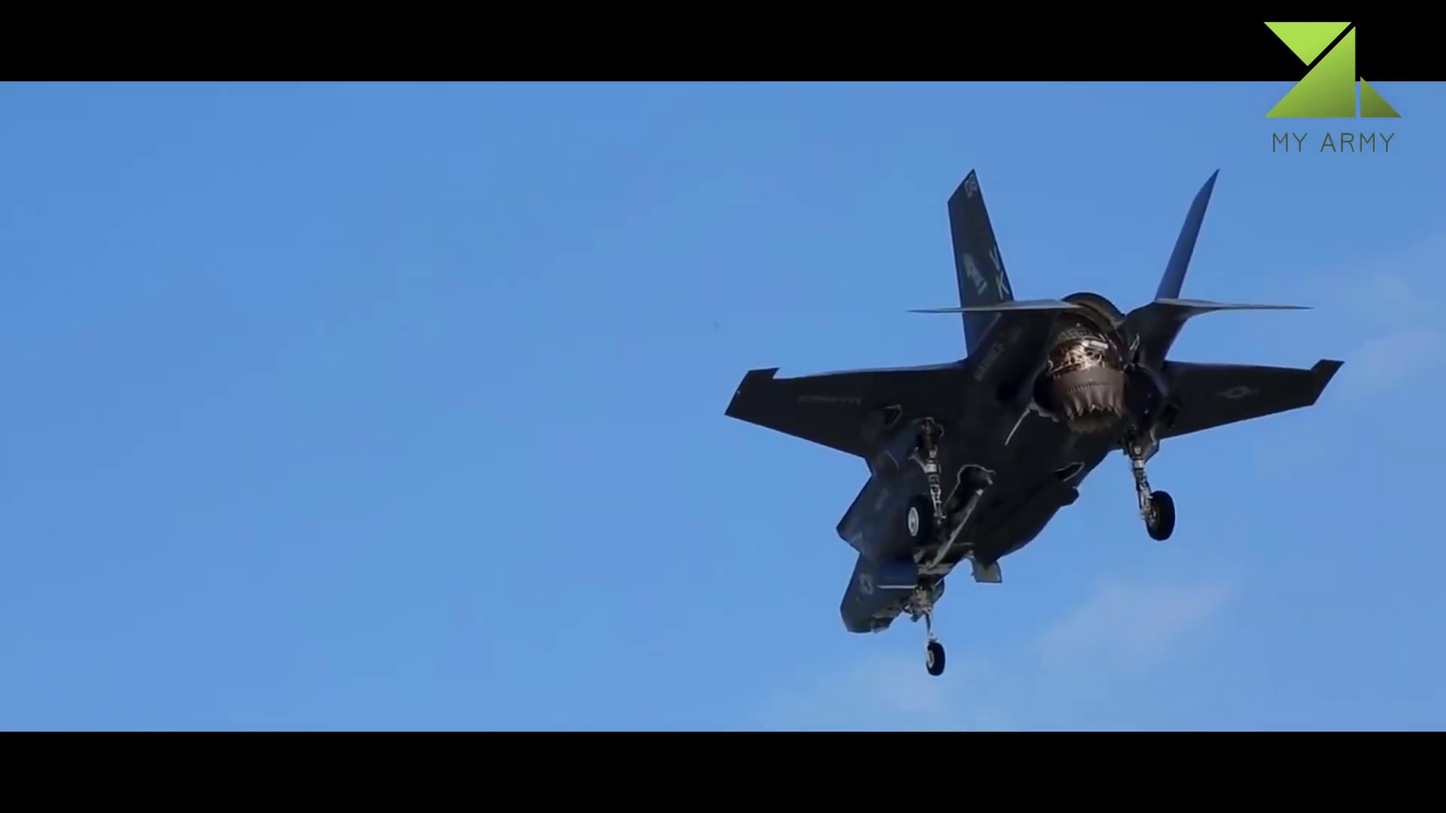F35: (713, 154, 1350, 688)
